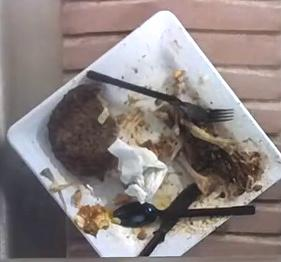burger_patty: (48, 82, 119, 180)
